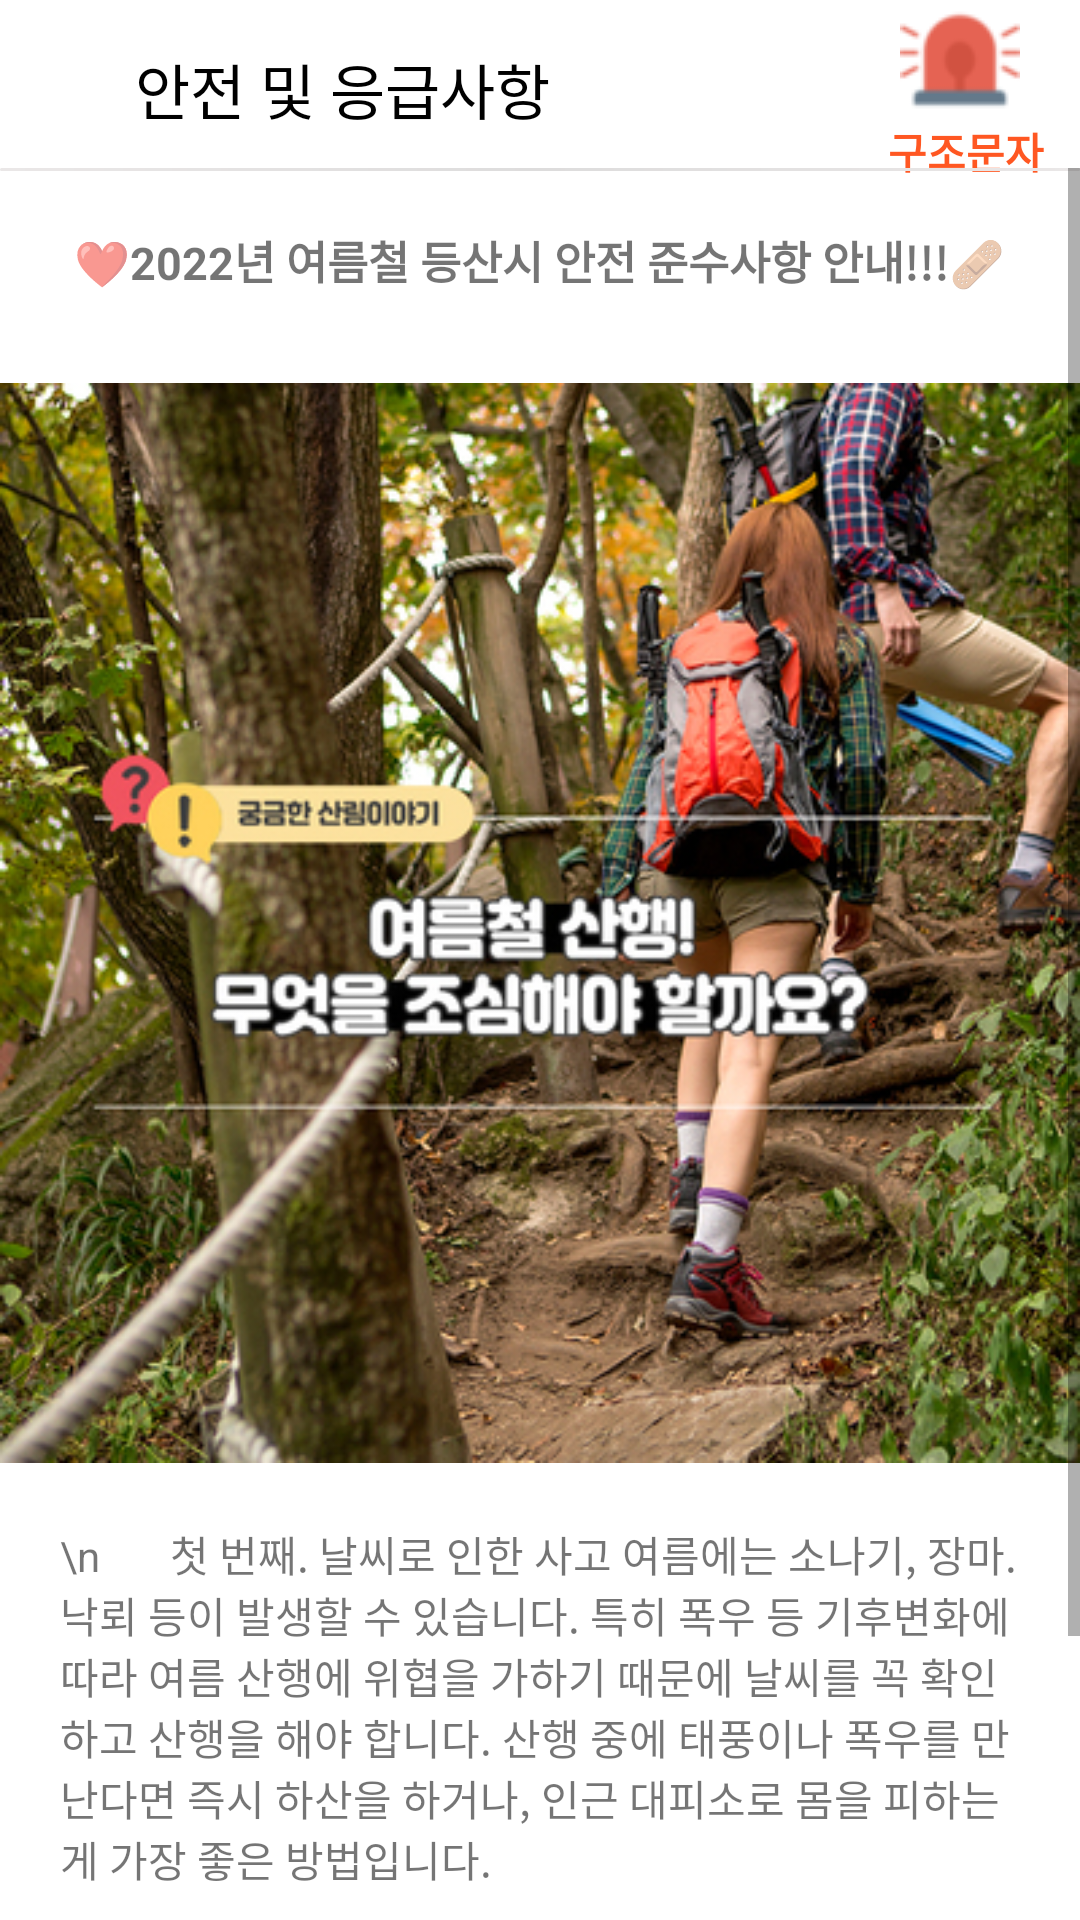

Icon click points for this 1080×1920 phone screenshot, format point (x, y):
emergency: point (960, 60)
